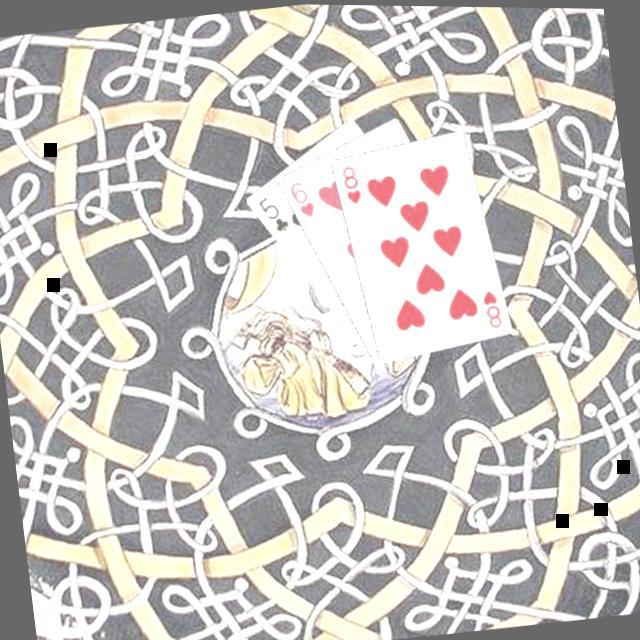5C: (255, 191, 294, 237)
6H: (286, 176, 319, 222)
8H: (340, 162, 367, 208), (480, 284, 507, 330)
